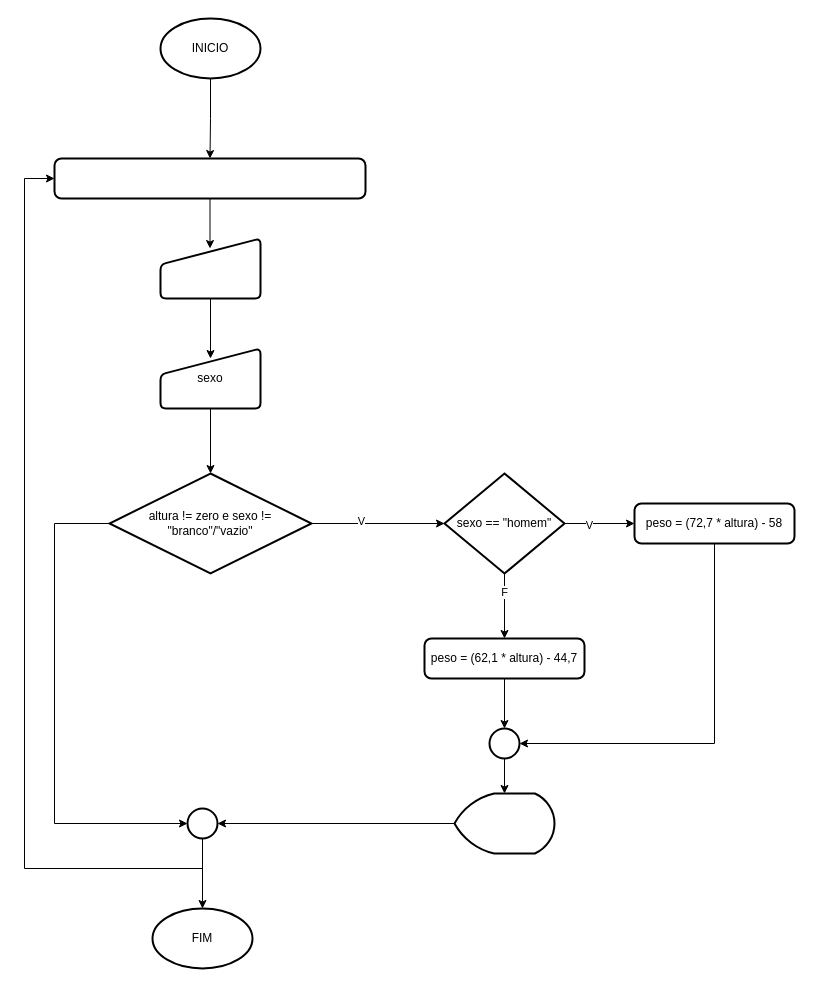
This 813x986 diagram has some shape labels left out. Here are the shapes that lost their labels. From the top down, the centre of each, then its label:
[209,178]: enquanto(altura != zero e sexo != "branco"/"vazio")
[210,268]: altura
[504,823]: peso
